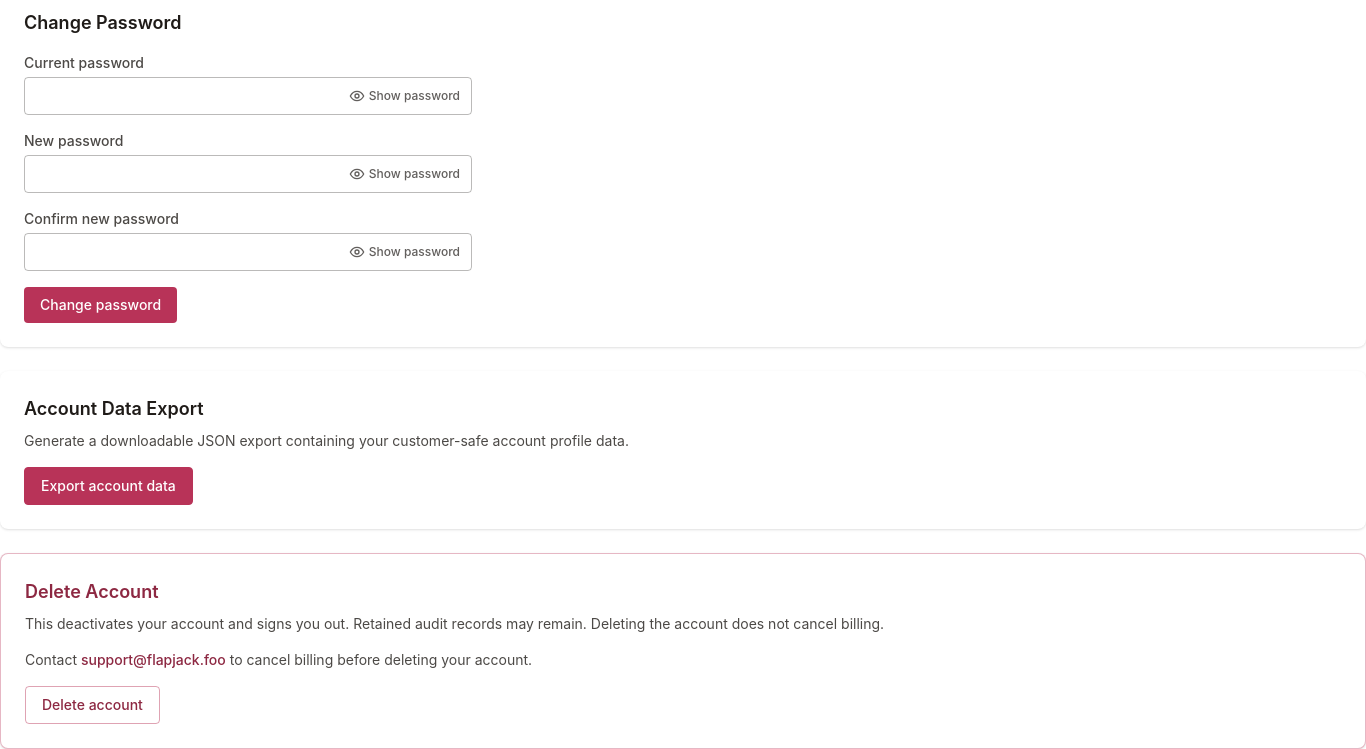
Test: Account page › keeps delete submit gated until both password and delete confirmation are provided
The image size is (1366, 749).
(page scrolled)
Click the button with test id "delete-account-open" at {"x": 92, "y": 705}, box [25,686,160,724]
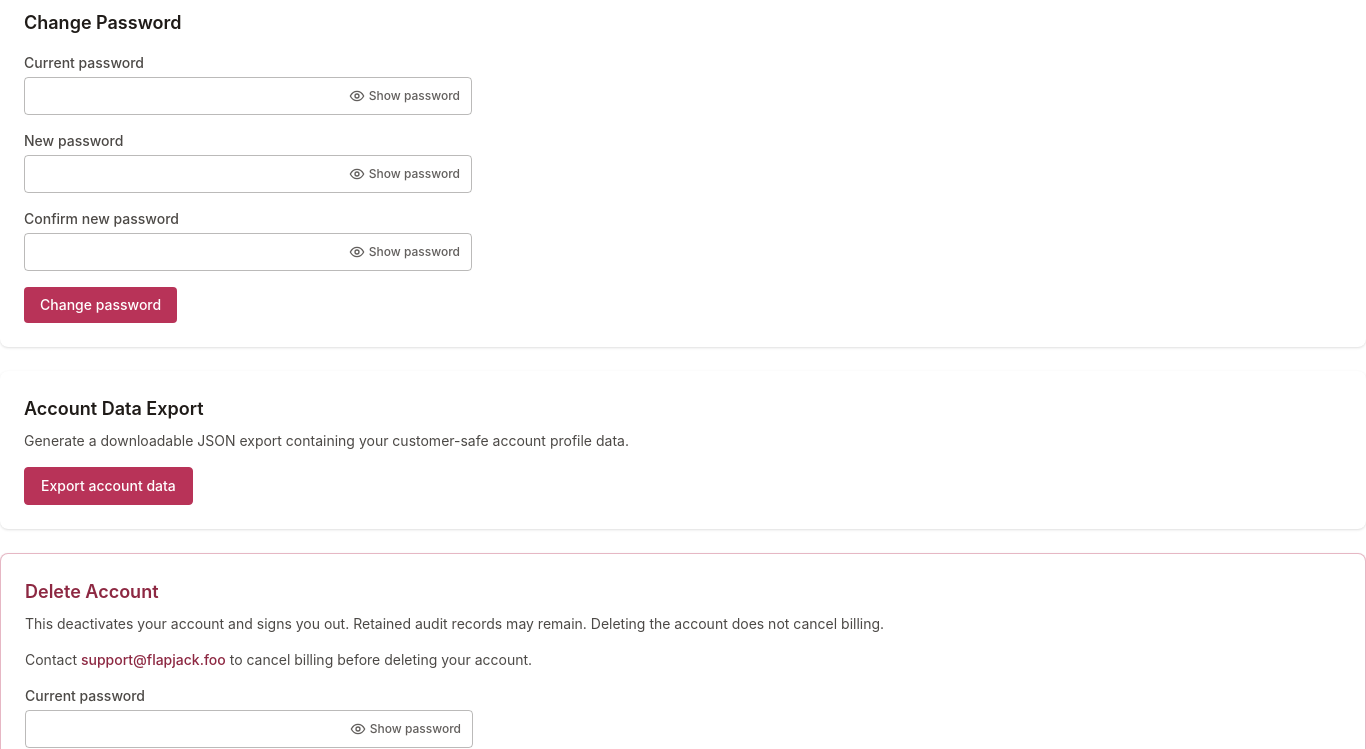
Type "current-password-123" into the password field with test id "delete-account-password" at {"x": 249, "y": 729}, box [25,710,473,748]
(page scrolled)
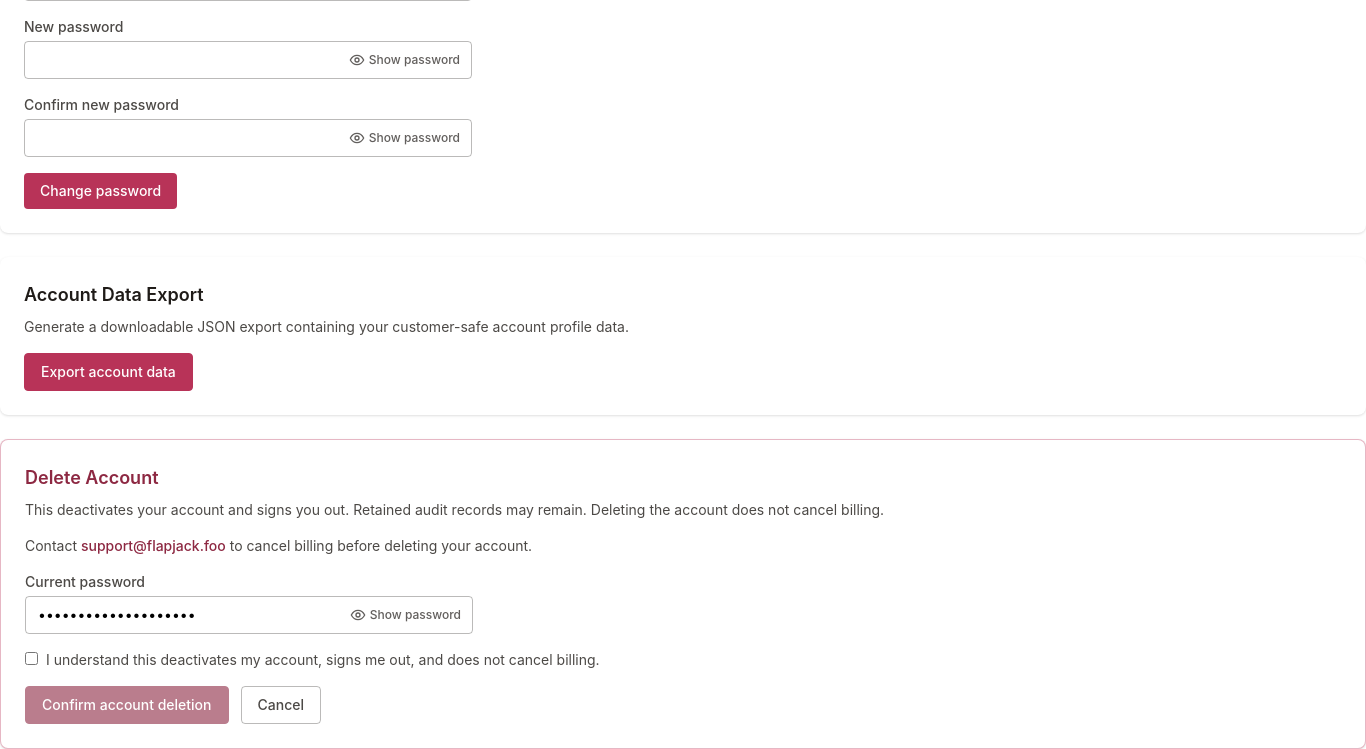
expect the button with test id "delete-account-submit" is disabled: met, box [25,686,228,724]
Click the checkbox with test id "delete-account-confirm" at {"x": 32, "y": 658}, box [25,652,38,665]
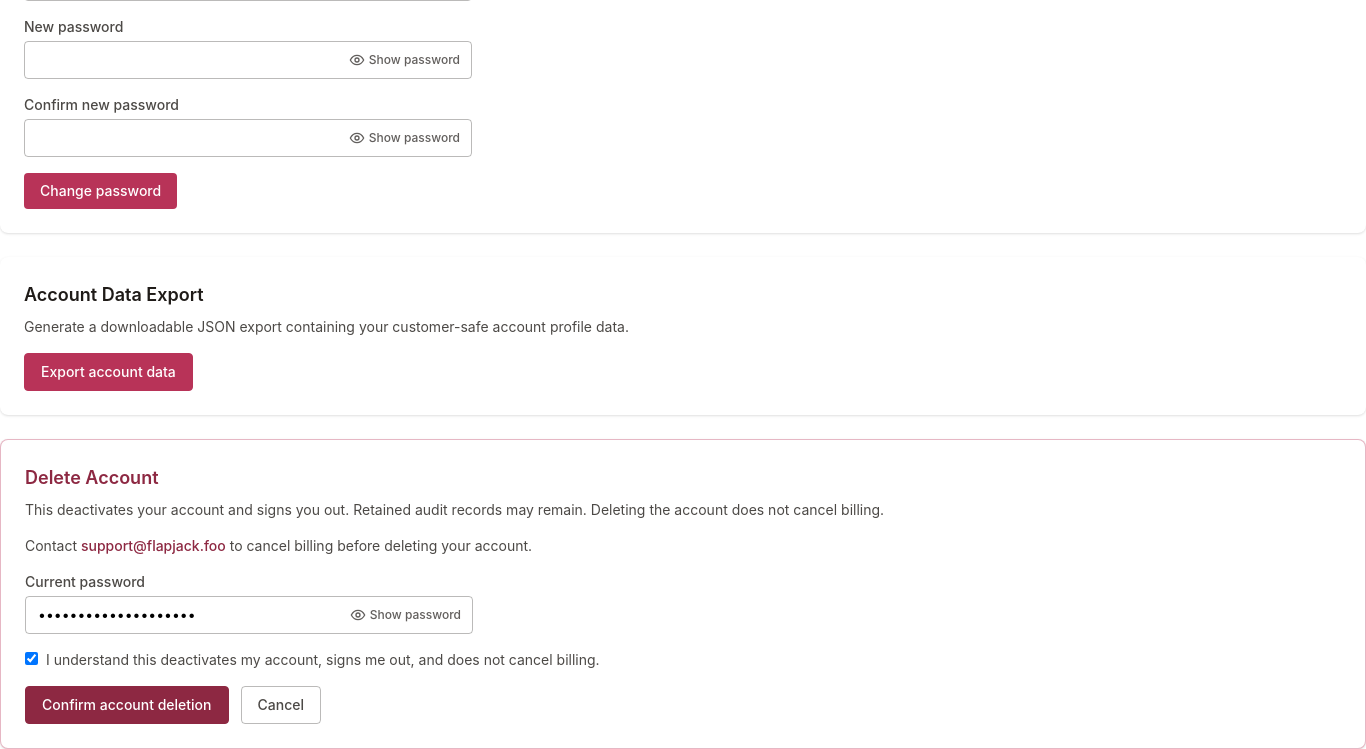
expect the button with test id "delete-account-submit" is enabled: met, box [25,686,228,724]
Clear the password field with test id "delete-account-password" at {"x": 249, "y": 615}, box [25,596,473,634]
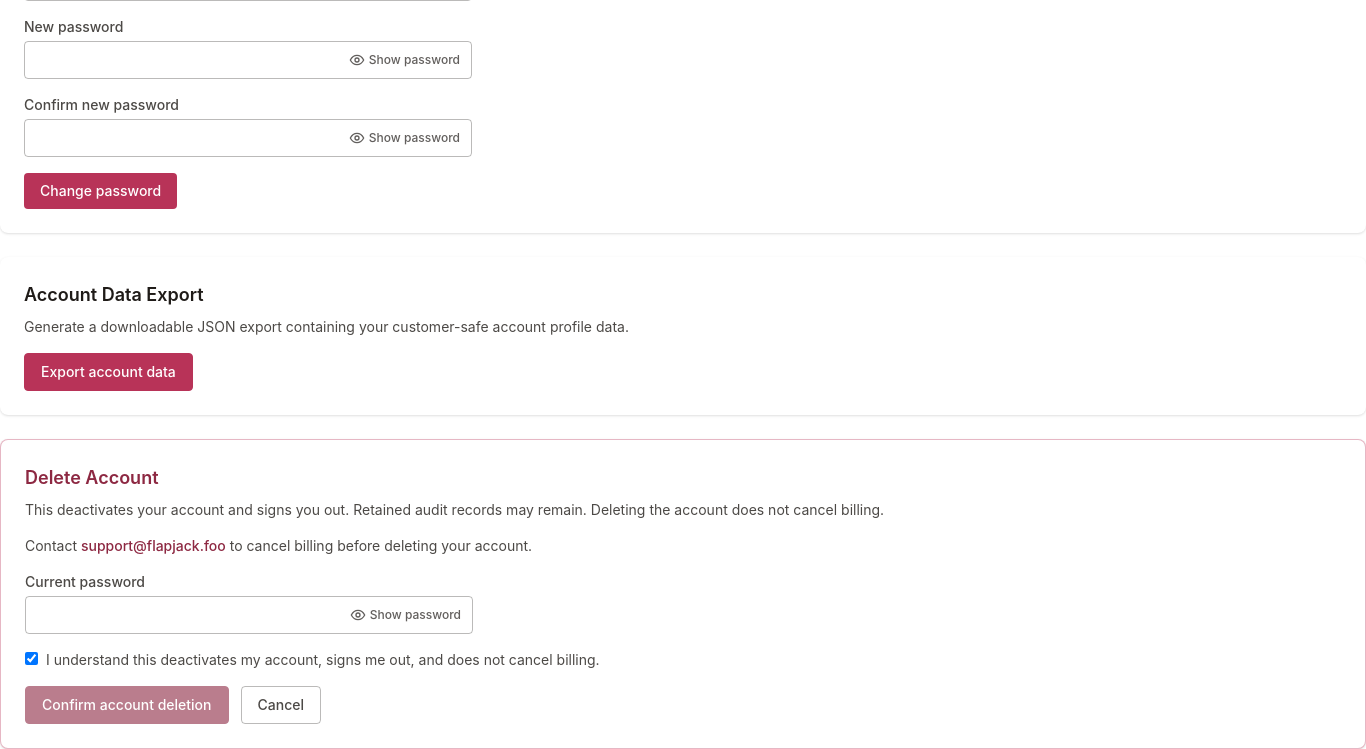
expect the button with test id "delete-account-submit" is disabled: met, box [25,686,228,724]
Type "current-password-123" into the password field with test id "delete-account-password" at {"x": 249, "y": 615}, box [25,596,473,634]
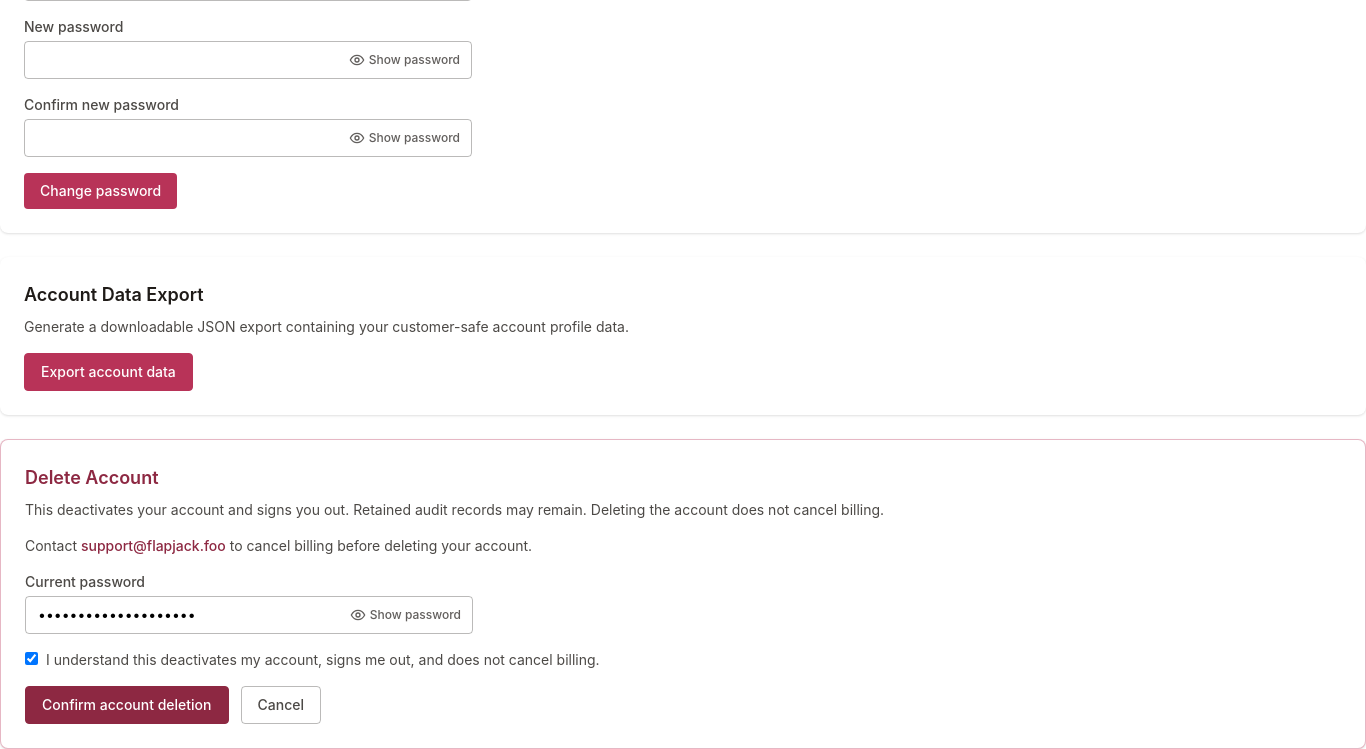
Click the checkbox with test id "delete-account-confirm" at {"x": 32, "y": 658}, box [25,652,38,665]
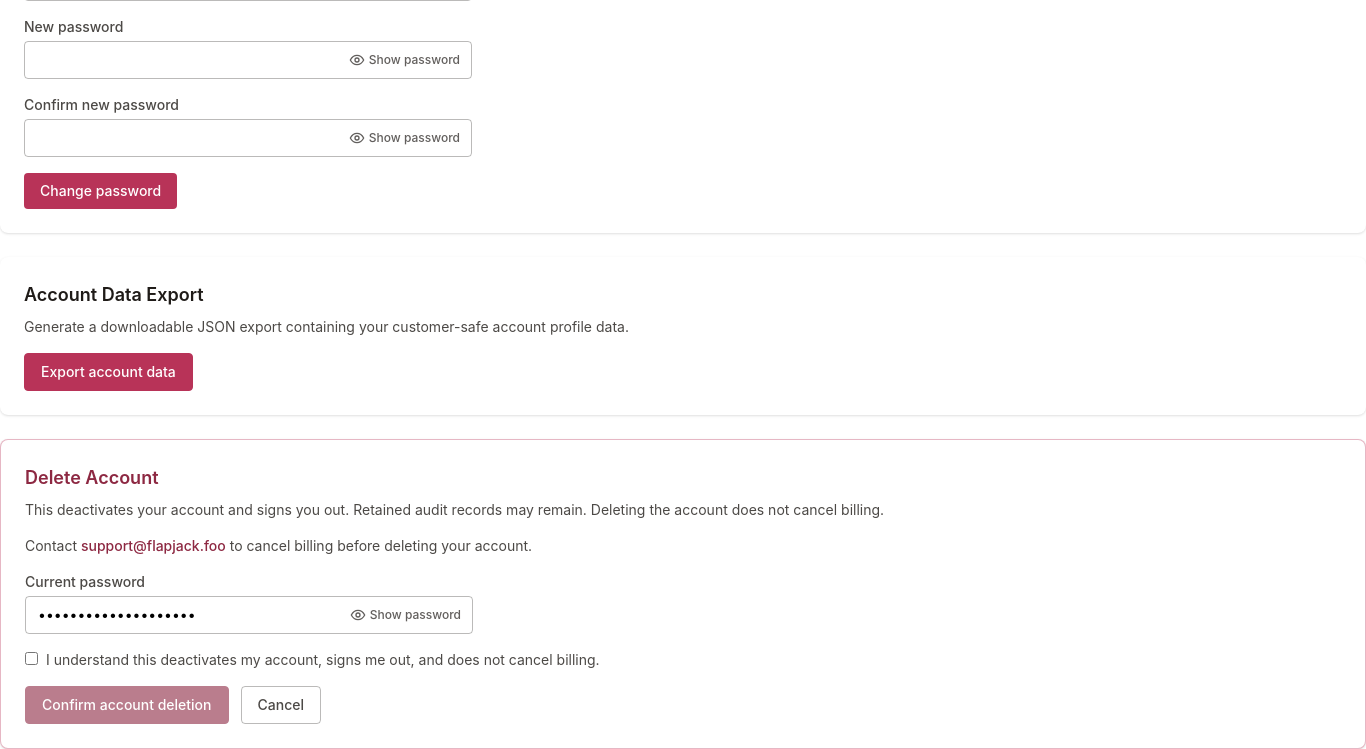
expect the button with test id "delete-account-submit" is disabled: met, box [25,686,228,724]
